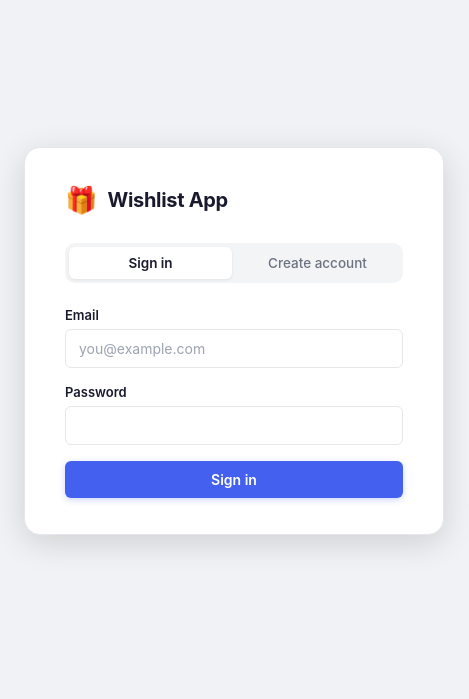
Test: AuthPage client-side validation › shows error when name is empty on register
The width and height of the screenshot is (469, 699).
Click the button "Create account" at (318, 263), box [236, 247, 399, 279]
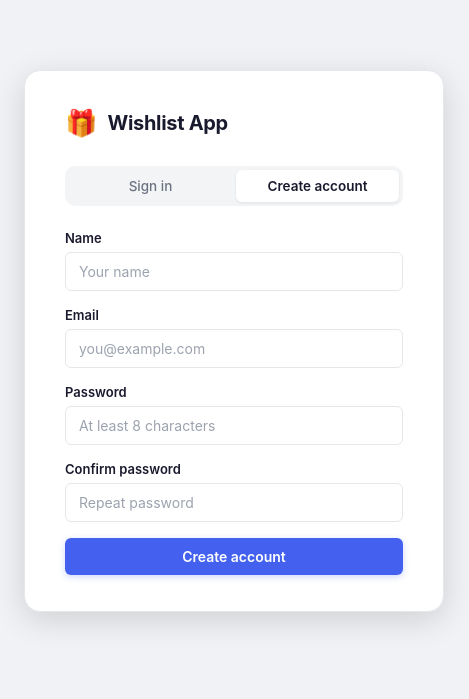
Type "a@b.com" into the field labelled "Email" at (234, 348), box [65, 329, 403, 368]
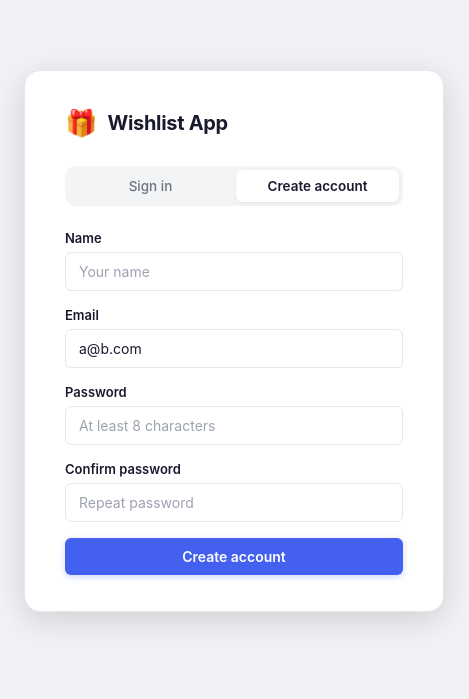
Type "password123" into the password field labelled "Password" at (234, 426), box [65, 406, 403, 445]
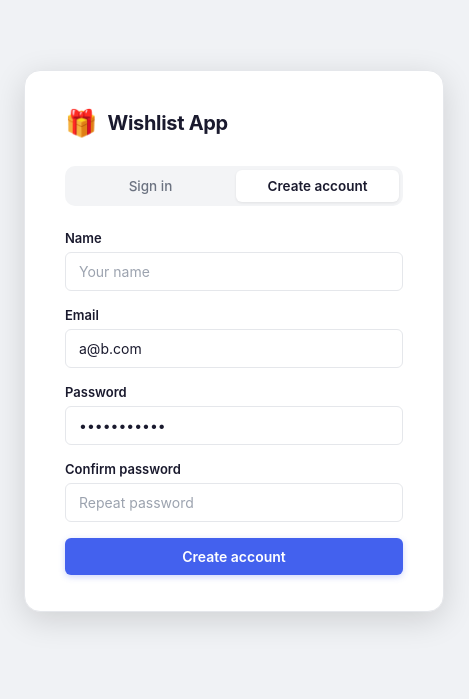
Type "password123" into the password field labelled "Confirm password" at (234, 502), box [65, 483, 403, 522]
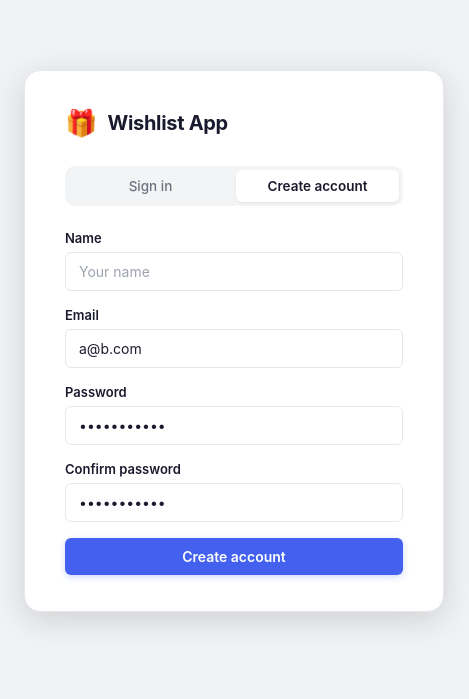
Submit the form, box [65, 230, 403, 575]
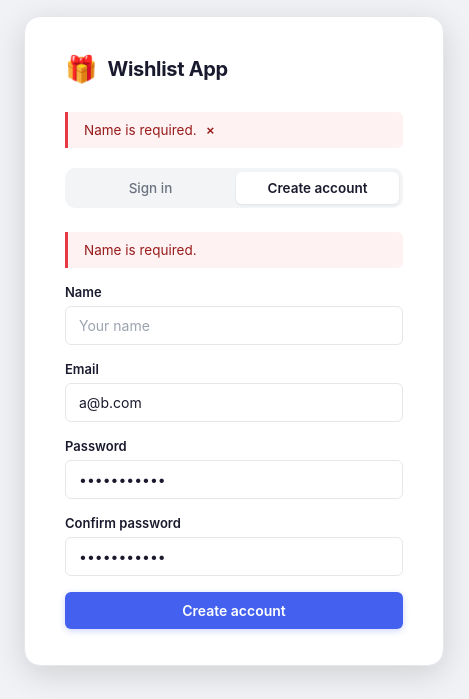
Now the text "Name is required. ×" is shown, box [65, 112, 403, 148]
